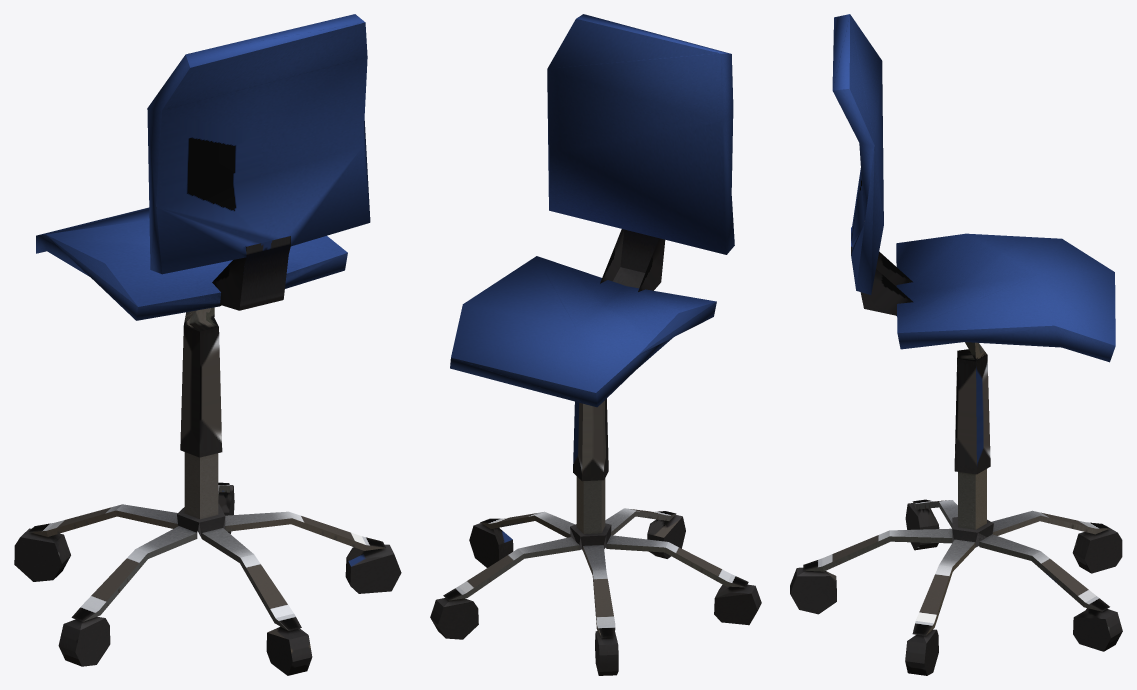
Rendered from deskchair01.fbx.
3 views of the same model, side by side, from view 1: azimuth 30°, elevation 25°; view 2: azimuth 150°, elevation 25°; view 3: azimuth 270°, elevation 25° (orthographic). The views are drawn at different scales.
Parts seen in each view (by area): view 1: Plane.002; view 2: Plane.002; view 3: Plane.002.
Part boxes in pixels (x1,y1,x2,y2): Plane.002: (14, 14, 401, 675); Plane.002: (430, 14, 761, 675); Plane.002: (790, 14, 1122, 675).
Size of the model in its own units: 1.7 by 1.61 by 2.99.
Materials: 1 (1 with a texture image).
